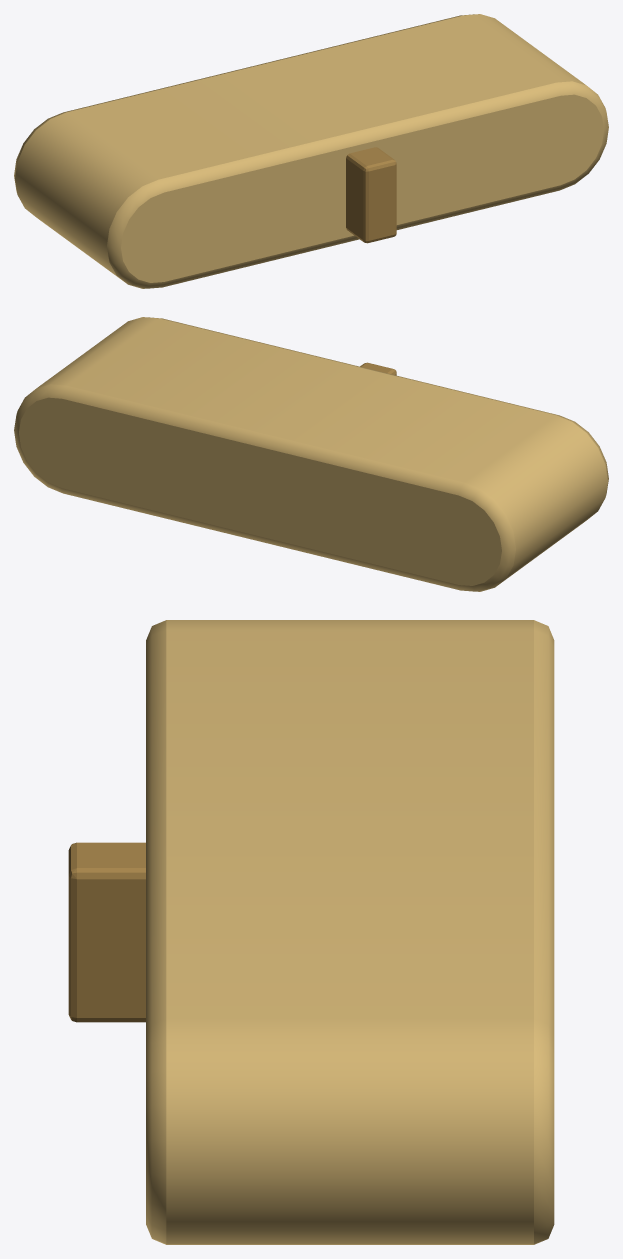
The model's file is height-grip-knob-v01.glb.
3 views of the same model, one above another, from view 1: azimuth 30°, elevation 25°; view 2: azimuth 150°, elevation 25°; view 3: azimuth 270°, elevation 25° (orthographic). The views are drawn at different scales.
Visible parts, largest first — view 1: Shadow gold 0, Shadow brass 1; view 2: Shadow gold 0; view 3: Shadow gold 0, Shadow brass 1.
Part boxes in pixels (x1,y1,x2,y2): Shadow gold 0: [14, 14, 608, 288]; Shadow brass 1: [346, 147, 396, 243]; Shadow gold 0: [14, 317, 608, 591]; Shadow gold 0: [146, 620, 554, 1244]; Shadow brass 1: [68, 842, 145, 1022].
Size of the model in its own units: 0.68 by 0.14 by 0.2855.
